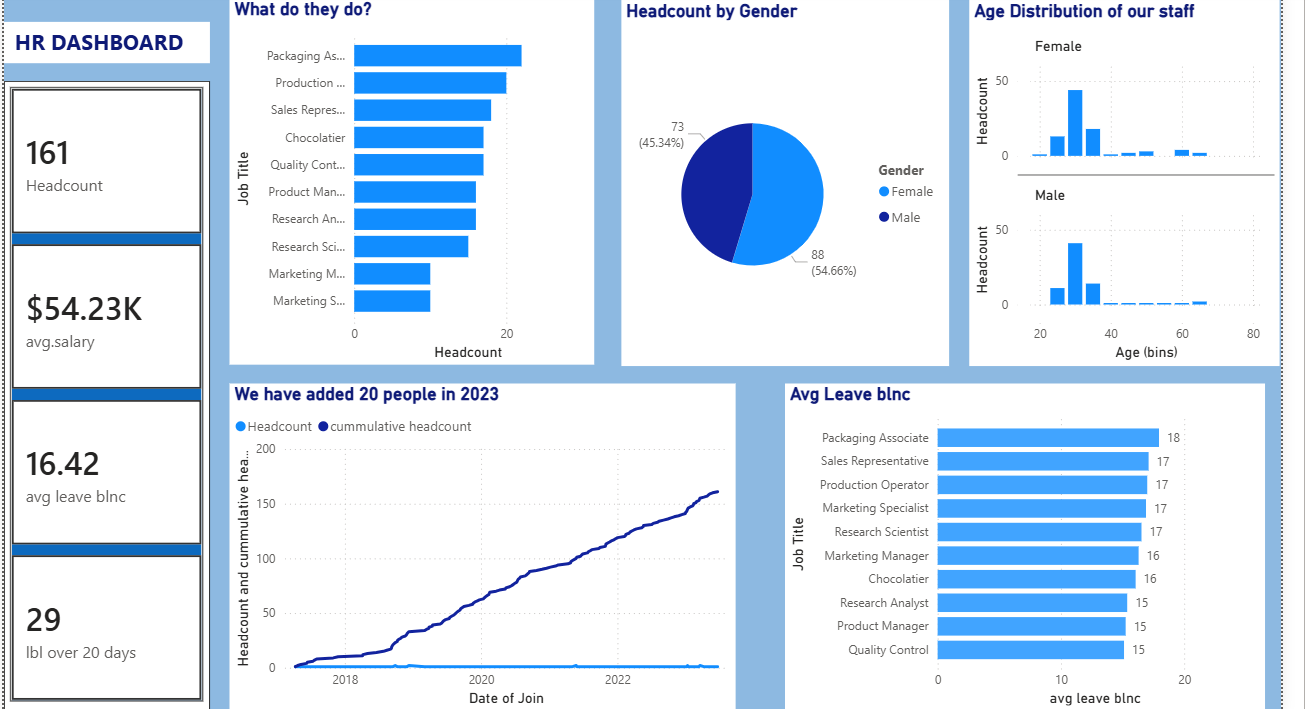

The page's visual inventory and layout, read from the dashboard file:
{"tool":"powerbi","page":{"name":"Page 10","canvas":[1280,720],"ordinal":9},"visuals":[{"type":"cardVisual","fields":{"Data":["staff.Headcount","staff.avg.salary","staff.avg leave blnc","staff.lbl over 20 days"]},"box":[0,88.3,206.9,631.6],"z":0},{"type":"barChart","title":"What do they do?","fields":{"Category":["staff.Job Title"],"Y":["staff.Headcount"]},"box":[225.6,4.8,365.9,367.5],"z":1000},{"type":"pieChart","fields":{"Category":["staff.Gender"],"Y":["staff.Headcount"]},"box":[618.9,6.4,328.8,367.5],"z":2000},{"type":"clusteredColumnChart","title":"Age Distribution of our staff ","fields":{"Category":["staff.Age (bins)"],"Y":["staff.Headcount"],"Rows":["staff.Gender"]},"box":[968.7,6.4,311.1,367.5],"z":3000},{"type":"lineChart","title":"We have added 20 people in 2023","fields":{"Y":["staff.Headcount","staff.cummulative headcount"],"Category":["staff.Date of Join"]},"box":[226.2,391.7,507.5,328.2],"z":4000},{"type":"barChart","title":"Avg Leave blnc","fields":{"Category":["staff.Job Title"],"Y":["staff.avg leave blnc"]},"box":[783.3,391.7,481.3,328.2],"z":5000},{"type":"textbox","box":[0,29,206.9,41.4],"z":5001}]}

Visuals, with their boxes on the page's 1280x720 design canvas (x1, y1, x2, y2). These are canvas units, not pixel positions in the 1308x709 screenshot, which may show the page scaled, cropped or inside an application window:
cardVisual - staff.Headcount x staff.avg.salary: (x1=0, y1=88, x2=207, y2=720)
"What do they do?" barChart: (x1=226, y1=5, x2=592, y2=372)
pieChart - staff.Gender x staff.Headcount: (x1=619, y1=6, x2=948, y2=374)
"Age Distribution of our staff " clusteredColumnChart: (x1=969, y1=6, x2=1280, y2=374)
"We have added 20 people in 2023" lineChart: (x1=226, y1=392, x2=734, y2=720)
"Avg Leave blnc" barChart: (x1=783, y1=392, x2=1265, y2=720)
textbox: (x1=0, y1=29, x2=207, y2=70)
